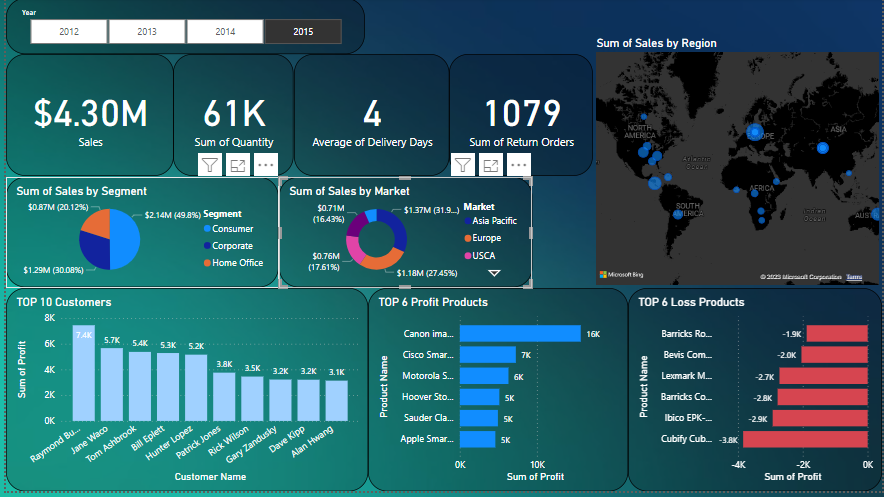

The page's visual inventory and layout, read from the dashboard file:
{"tool":"powerbi","page":{"name":"Page 1","canvas":[1280,720],"ordinal":0},"visuals":[{"type":"card","fields":{"Values":["Orders.Sales"]},"box":[0,82.3,245.2,178.1],"z":0},{"type":"card","fields":{"Values":["Orders.Quantity"]},"box":[243.6,82.3,176.4,178.1],"z":1000},{"type":"card","fields":{"Values":["Orders.Delivery Days"]},"box":[419.9,82.3,226.8,178.1],"z":2000},{"type":"slicer","fields":{"Values":["Orders.Year"]},"box":[0,0,524.3,81.8],"z":3000},{"type":"card","fields":{"Values":["Returns.Return Orders"]},"box":[646.7,82.3,210,178.1],"z":4000},{"type":"map","fields":{"Category":["Orders.Region"],"Size":["Orders.Sales"]},"box":[856.7,55.4,423.3,367.9],"z":4001},{"type":"clusteredBarChart","title":"TOP 6 Profit Products","fields":{"Category":["Orders.Product Name"],"Y":["Orders.Profit"]},"box":[529.1,423.3,379.6,297.3],"z":4002},{"type":"clusteredBarChart","title":"TOP 6 Loss Products","fields":{"Category":["Orders.Product Name"],"Y":["Orders.Profit"]},"box":[908.8,423.3,371.2,297.3],"z":4003},{"type":"pieChart","fields":{"Category":["Orders.Segment"],"Y":["Orders.Sales"]},"box":[0,262,398.1,161.3],"z":4004},{"type":"donutChart","fields":{"Category":["Orders.Market"],"Y":["Orders.Sales"]},"box":[398.1,262,369.6,161.3],"z":4005},{"type":"columnChart","title":"TOP 10 Customers","fields":{"Y":["Orders.Profit"],"Category":["Orders.Customer Name"]},"box":[0,423.3,529.1,297.3],"z":4006}]}

Visuals, with their boxes in screenshot pixels (x1, y1, x2, y2), scaled from the page's 1280x720 canvas onto the 884x497 screenshot:
card - Orders.Sales: <box>0,57,169,180</box>
card - Orders.Quantity: <box>168,57,290,180</box>
card - Orders.Delivery Days: <box>290,57,447,180</box>
slicer - Orders.Year: <box>0,0,362,56</box>
card - Returns.Return Orders: <box>447,57,592,180</box>
map - Orders.Region x Orders.Sales: <box>592,38,883,292</box>
"TOP 6 Profit Products" clusteredBarChart: <box>365,292,628,496</box>
"TOP 6 Loss Products" clusteredBarChart: <box>628,292,883,496</box>
pieChart - Orders.Segment x Orders.Sales: <box>0,181,275,292</box>
donutChart - Orders.Market x Orders.Sales: <box>275,181,530,292</box>
"TOP 10 Customers" columnChart: <box>0,292,365,496</box>
